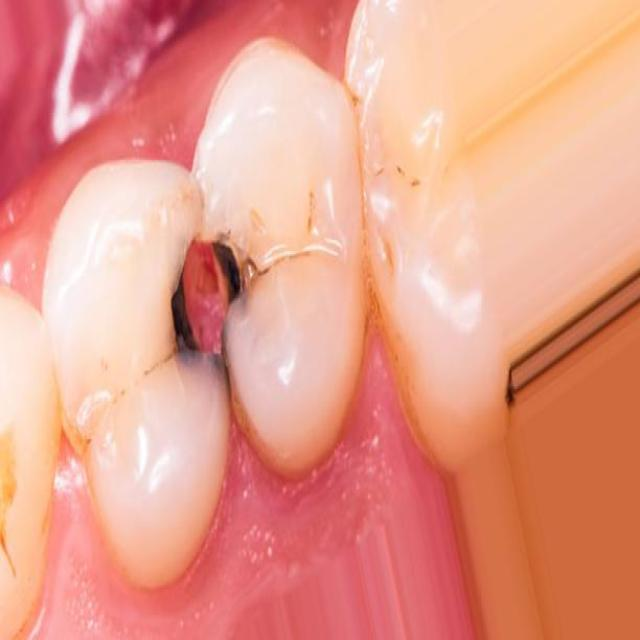caries: (127, 184, 295, 416)
